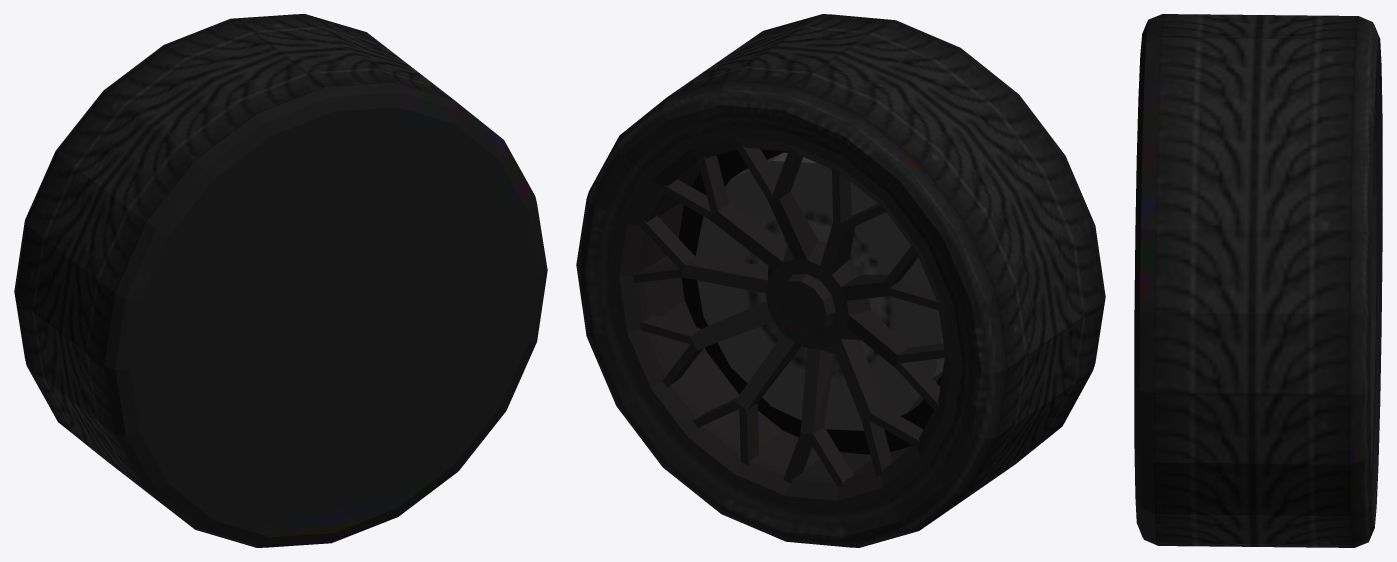
File: lamborghini_aventador_wheel_rl_lev3.glb
3 renders of one model, left to right at view 1: azimuth 30°, elevation 25°; view 2: azimuth 150°, elevation 25°; view 3: azimuth 270°, elevation 25°, orthographic. The views are drawn at different scales.
Visible parts, largest first — view 1: lamborghini_aventador_wheel_rl_lev3; view 2: lamborghini_aventador_wheel_rl_lev3; view 3: lamborghini_aventador_wheel_rl_lev3.
Boxes of the visible parts, <box> form: lamborghini_aventador_wheel_rl_lev3: <box>14,14,547,547</box>; lamborghini_aventador_wheel_rl_lev3: <box>576,14,1105,547</box>; lamborghini_aventador_wheel_rl_lev3: <box>1134,14,1382,547</box>.
Size of the model in its own units: 0.761 by 0.7545 by 0.3499.
1 material, 1 textured.
